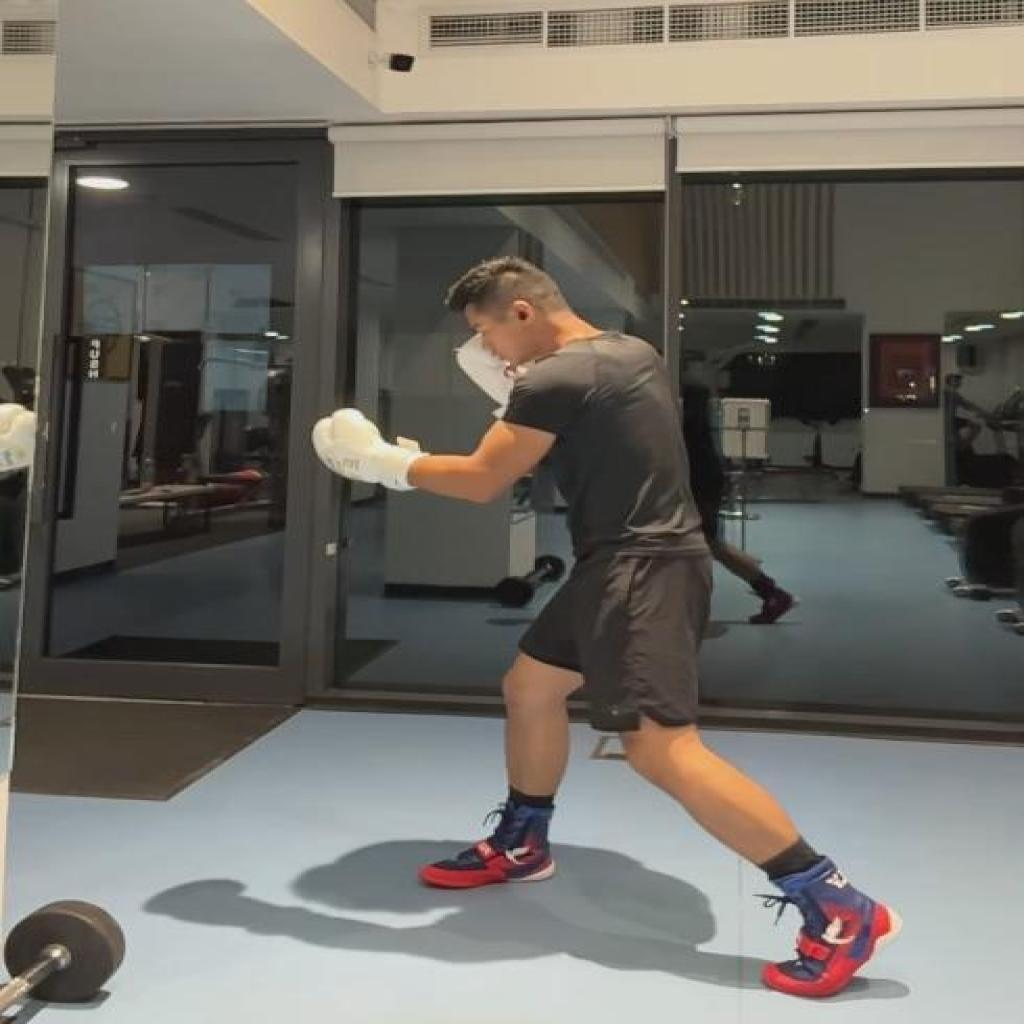uppercut: (313, 258, 905, 1004)
